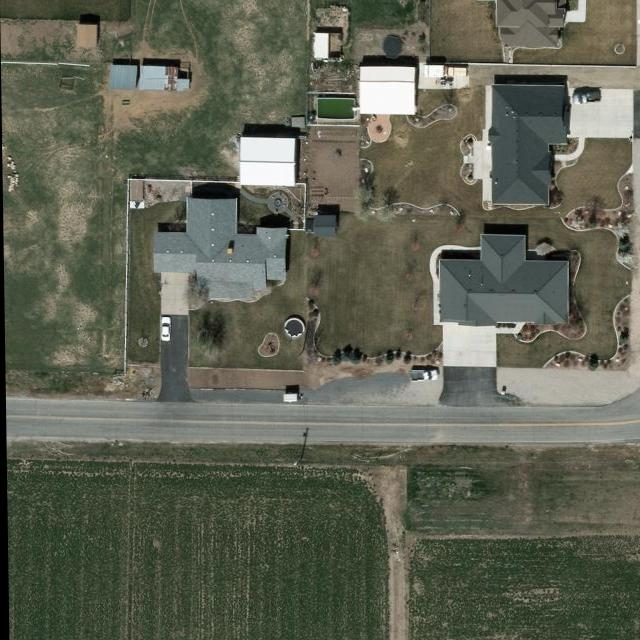vehicle: (571, 89, 603, 104), (410, 370, 438, 381), (159, 317, 170, 343)
